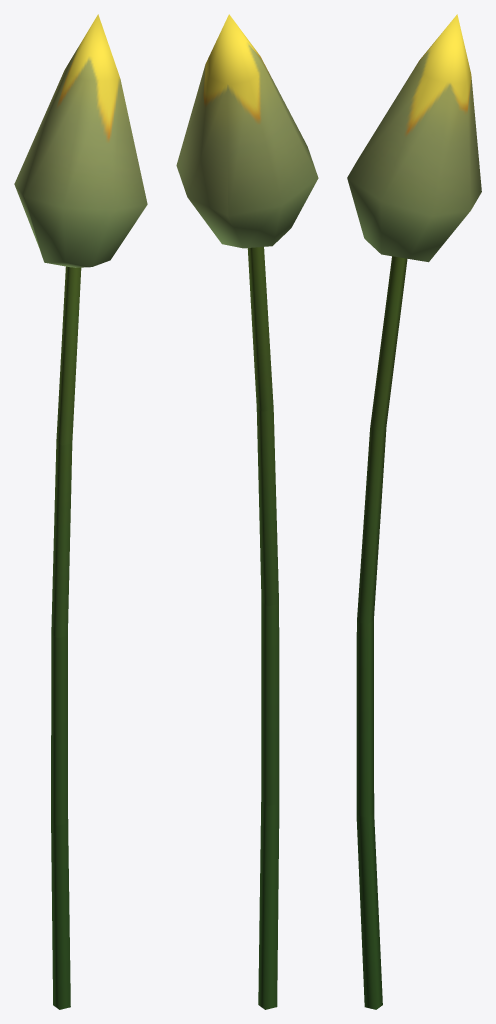
File: Flower_001_Mesh_001.fbx
The picture shows the model from 3 angles, left to right: view 1: azimuth 30°, elevation 25°; view 2: azimuth 210°, elevation 25°; view 3: azimuth 330°, elevation 25°; orthographic projection. The views are drawn at different scales.
Visible parts, largest first — view 1: Flower_001Mesh_001; view 2: Flower_001Mesh_001; view 3: Flower_001Mesh_001.
Part boxes in pixels (x1,y1,x2,y2): Flower_001Mesh_001: (14,14,147,1009); Flower_001Mesh_001: (176,14,318,1009); Flower_001Mesh_001: (347,14,481,1009).
Size of the model in its own units: 53.91 by 445 by 54.34.
